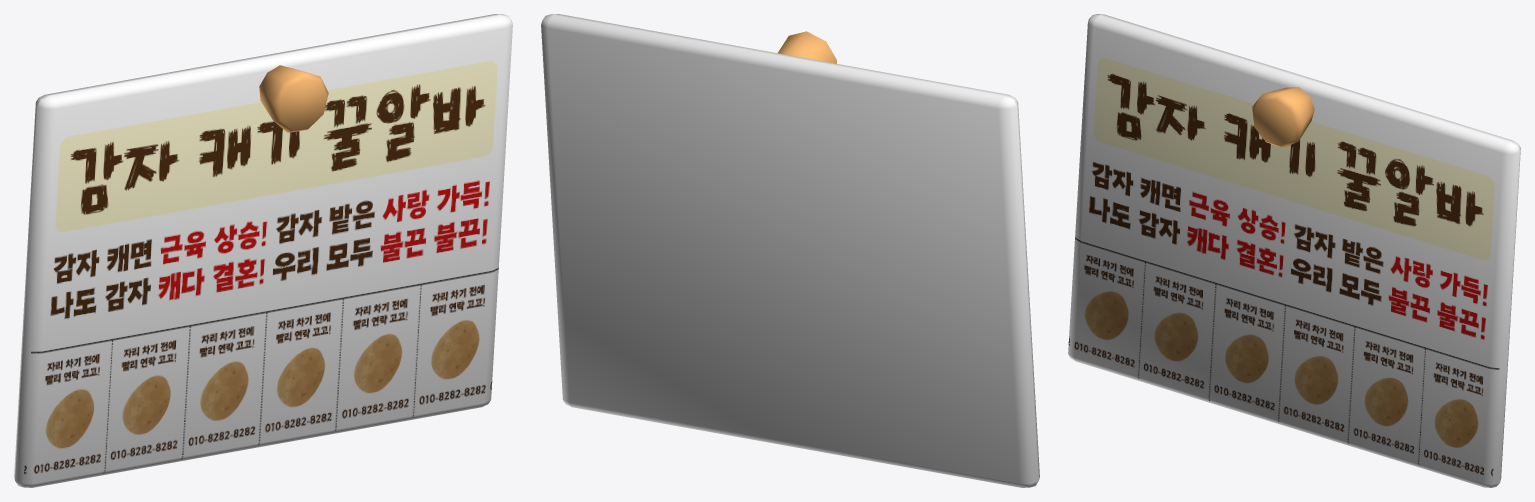
File: GamzaMemo.glb
The picture shows the model from 3 angles, left to right: view 1: azimuth 30°, elevation 25°; view 2: azimuth 150°, elevation 25°; view 3: azimuth 330°, elevation 25°; orthographic projection. The views are drawn at different scales.
Visible parts, largest first — view 1: Gamza_memo; view 2: Gamza_memo; view 3: Gamza_memo.
Boxes of the visible parts, x1,y1,x2,y2 form: Gamza_memo: (14, 14, 512, 487); Gamza_memo: (541, 14, 1039, 487); Gamza_memo: (1068, 14, 1520, 487).
Bounding box in the file's own units: 2 × 1.6 × 0.2631.
Materials: 2 (1 with a texture image).
